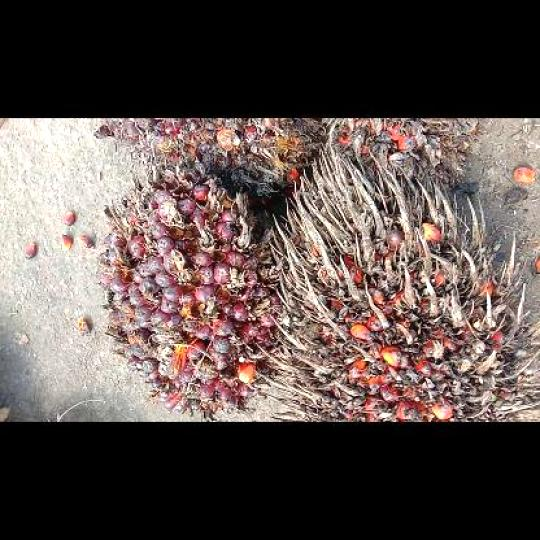masak: (98, 158, 281, 420), (100, 118, 326, 199)
terlalu masak: (256, 146, 538, 420), (326, 118, 476, 186)
